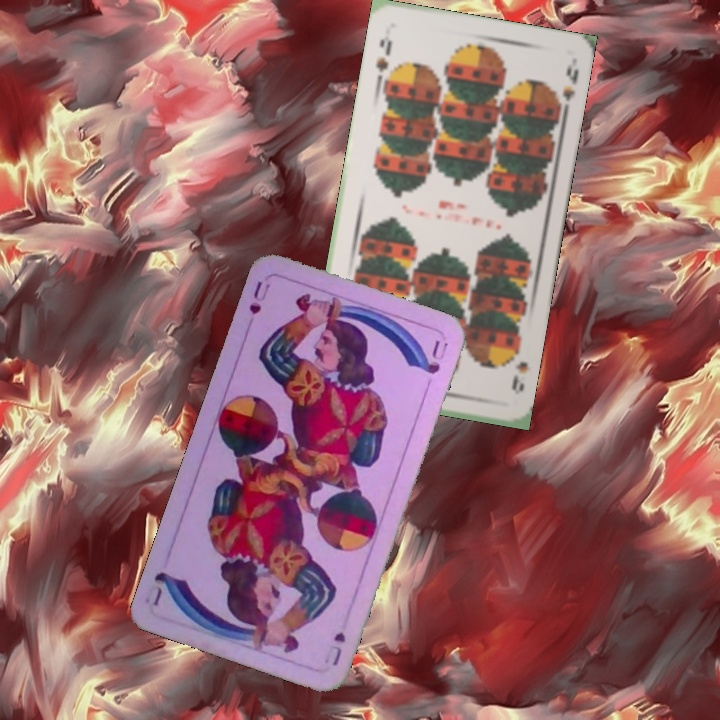S9: (505, 342, 532, 394), (371, 32, 394, 75)
SU: (320, 627, 348, 669), (245, 277, 274, 317)
